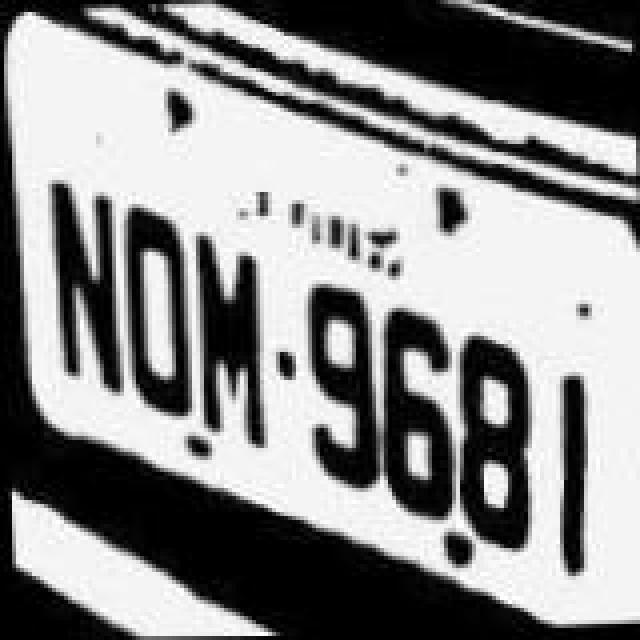1: (536, 350, 608, 590)
6: (370, 296, 458, 528)
8: (446, 326, 534, 562)
9: (294, 272, 386, 504)
M: (184, 224, 268, 460)
N: (46, 174, 130, 398)
O: (114, 202, 194, 414)
